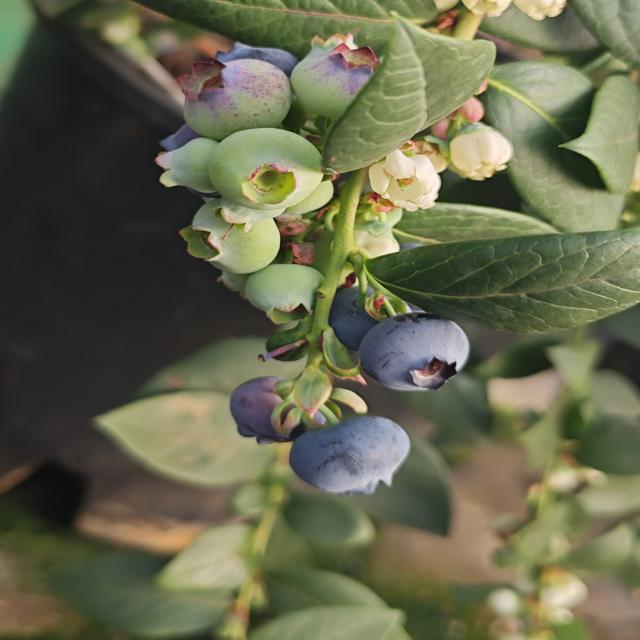ripe: (275, 414, 411, 496), (341, 315, 474, 388), (324, 272, 413, 352), (223, 379, 332, 441), (205, 34, 302, 80)
